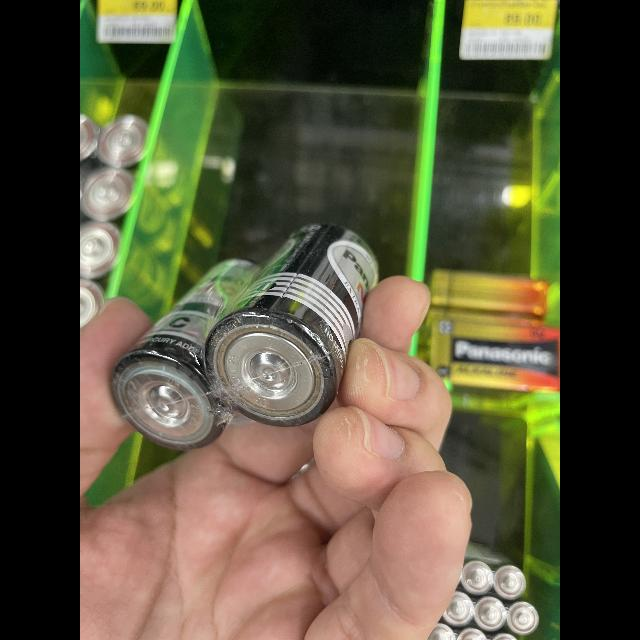battery: (196, 213, 386, 438), (106, 246, 255, 449), (80, 90, 198, 324), (432, 253, 560, 402)
